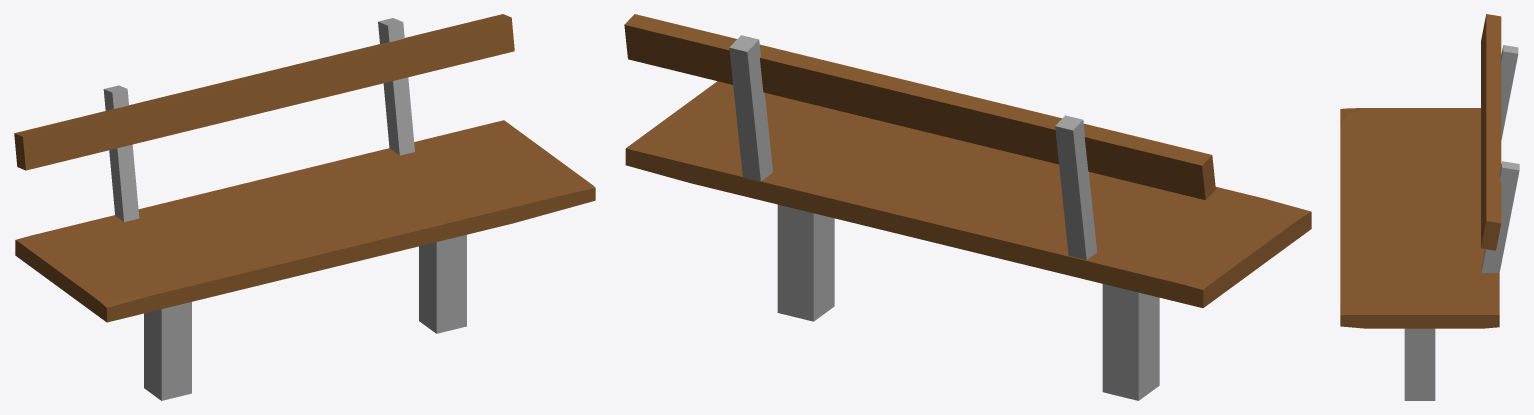
Rendered from bench.glb.
3 renders of one model, left to right at view 1: azimuth 30°, elevation 25°; view 2: azimuth 150°, elevation 25°; view 3: azimuth 270°, elevation 25°, orthographic. The views are drawn at different scales.
Visible parts, largest first — view 1: Cube.002, Cube.005, Cube.001, Cube, Cube.003, Cube.004; view 2: Cube.002, Cube.005, Cube.001, Cube, Cube.003, Cube.004; view 3: Cube.002, Cube.005, Cube.001, Cube.003, Cube.004.
Part boxes in pixels (x1,y1,x2,y2): Cube.002: (15,120,595,322); Cube.005: (14,14,514,170); Cube.001: (419,235,466,333); Cube: (144,302,191,400); Cube.003: (378,18,414,155); Cube.004: (103,85,139,221); Cube.002: (625,81,1311,307); Cube.005: (624,14,1215,200); Cube.001: (777,204,834,321); Cube: (1102,284,1159,400); Cube.003: (729,35,772,181); Cube.004: (1055,115,1097,259); Cube.002: (1340,108,1499,328); Cube.005: (1481,14,1501,250); Cube.001: (1404,328,1435,400); Cube.003: (1481,161,1519,272); Cube.004: (1500,45,1518,140).
Size of the model in its own units: 3.2 by 1.66 by 1.17.
2 materials, 2 textured.
